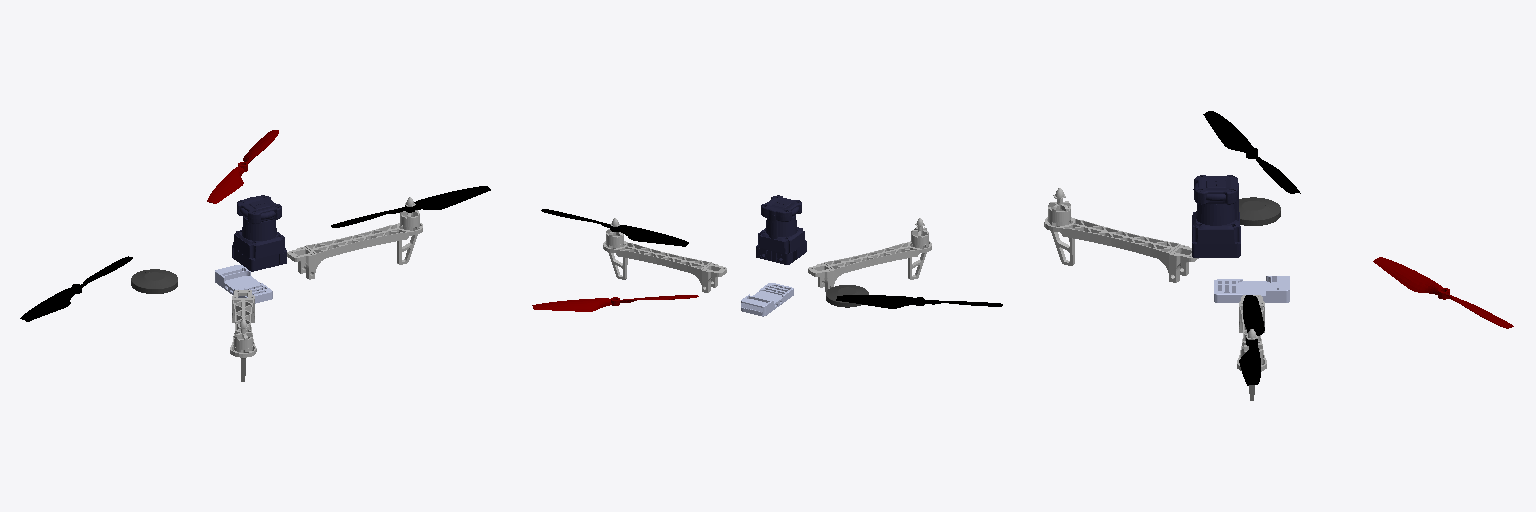
The robot description file, URDF, robot "f550_rd_basic_v1":
<robot
  name="f550_rd_basic_v1">
  <link
    name="base_link">
    <inertial>
      <origin
        xyz="0 0 0"
        rpy="0 0 0" />
      <mass
        value="1" />
      <inertia
        ixx="0.00067479"
        ixy="-6.0421E-07"
        ixz="-7.5099E-07"
        iyy="0.0010896"
        iyz="1.8163E-06"
        izz="0.00064988" />
    </inertial>
    <visual>
      <origin
        xyz="0 0 0"
        rpy="0 0 0" />
      <geometry>
        <mesh
          filename="package://f550_rd_basic_v1/meshes/base_link.STL" />
      </geometry>
      <material
        name="">
        <color
          rgba="0.92941 0.92941 0.92941 1" />
      </material>
    </visual>
    <collision>
      <origin
        xyz="0 0 0"
        rpy="0 0 0" />
      <geometry>
        <mesh
          filename="package://f550_rd_basic_v1/meshes/base_link.STL" />
      </geometry>
    </collision>
  </link>
  <link
    name="wing1">
    <inertial>
      <origin
        xyz="0.12144 -0.11968 0.038426"
        rpy="0 0 0" />
      <mass
        value="0.11819" />
      <inertia
        ixx="0.0003171"
        ixy="-0.00028167"
        ixz="-4.3423E-05"
        iyy="0.00031709"
        iyz="-4.3436E-05"
        izz="0.0005792" />
    </inertial>
    <visual>
      <origin
        xyz="0 0 0"
        rpy="0 0 0" />
      <geometry>
        <mesh
          filename="package://f550_rd_basic_v1/meshes/wing1.STL" />
      </geometry>
      <material
        name="">
        <color
          rgba="0.75294 0.75294 0.75294 1" />
      </material>
    </visual>
    <collision>
      <origin
        xyz="0 0 0"
        rpy="0 0 0" />
      <geometry>
        <mesh
          filename="package://f550_rd_basic_v1/meshes/wing1.STL" />
      </geometry>
    </collision>
  </link>
  <joint
    name="w1"
    type="fixed">
    <origin
      xyz="-0.219500442258882 -0.17050044149774 -0.0402465423967925"
      rpy="4.32963728535971E-17 4.32963728535964E-17 2.35619449019235" />
    <parent
      link="base_link" />
    <child
      link="wing1" />
    <axis
      xyz="0 0 0" />
  </joint>
  <link
    name="prop1">
    <inertial>
      <origin
        xyz="1.6083E-08 6.1968E-09 0.0078525"
        rpy="0 0 0" />
      <mass
        value="0.0091837" />
      <inertia
        ixx="3.009E-07"
        ixy="1.5042E-07"
        ixz="5.8166E-13"
        iyy="3.4024E-05"
        iyz="-7.7721E-14"
        izz="3.4239E-05" />
    </inertial>
    <visual>
      <origin
        xyz="0 0 0"
        rpy="0 0 0" />
      <geometry>
        <mesh
          filename="package://f550_rd_basic_v1/meshes/prop1.STL" />
      </geometry>
      <material
        name="">
        <color
          rgba="0 0 0 1" />
      </material>
    </visual>
    <collision>
      <origin
        xyz="0 0 0"
        rpy="0 0 0" />
      <geometry>
        <mesh
          filename="package://f550_rd_basic_v1/meshes/prop1.STL" />
      </geometry>
    </collision>
  </link>
  <joint
    name="p1"
    type="continuous">
    <origin
      xyz="0.159099025766974 -0.0820250109897306 0.0597327877613558"
      rpy="0 0 -1.92059574803774" />
    <parent
      link="wing1" />
    <child
      link="prop1" />
    <axis
      xyz="0 0 1" />
  </joint>
  <link
    name="wing2">
    <inertial>
      <origin
        xyz="0.12144 0.12144 0.038426"
        rpy="0 0 0" />
      <mass
        value="0.11819" />
      <inertia
        ixx="0.00031708"
        ixy="-0.00028166"
        ixz="-4.3423E-05"
        iyy="0.00031709"
        iyz="-4.3424E-05"
        izz="0.00057917" />
    </inertial>
    <visual>
      <origin
        xyz="0 0 0"
        rpy="0 0 0" />
      <geometry>
        <mesh
          filename="package://f550_rd_basic_v1/meshes/wing2.STL" />
      </geometry>
      <material
        name="">
        <color
          rgba="0.75294 0.75294 0.75294 1" />
      </material>
    </visual>
    <collision>
      <origin
        xyz="0 0 0"
        rpy="0 0 0" />
      <geometry>
        <mesh
          filename="package://f550_rd_basic_v1/meshes/wing2.STL" />
      </geometry>
    </collision>
  </link>
  <joint
    name="w2"
    type="fixed">
    <origin
      xyz="0.0479230484541336 0 -0.0402465423967926"
      rpy="-4.32963728535971E-17 -4.32963728535965E-17 -0.785398163397441" />
    <parent
      link="base_link" />
    <child
      link="wing2" />
    <axis
      xyz="0 0 0" />
  </joint>
  <link
    name="prop2">
    <inertial>
      <origin
        xyz="-6.06903996613894E-07 2.09895339214388E-08 0.00785142091305206"
        rpy="0 0 0" />
      <mass
        value="0.00919102949836486" />
      <inertia
        ixx="3.00756495521516E-07"
        ixy="-1.44553112000028E-07"
        ixz="7.8392478172389E-11"
        iyy="3.41061137513193E-05"
        iyz="-3.56044237665579E-12"
        izz="3.43204927897154E-05" />
    </inertial>
    <visual>
      <origin
        xyz="0 0 0"
        rpy="0 0 0" />
      <geometry>
        <mesh
          filename="package://f550_rd_basic_v1/meshes/prop2.STL" />
      </geometry>
      <material
        name="">
        <color
          rgba="0 0 0 1" />
      </material>
    </visual>
    <collision>
      <origin
        xyz="0 0 0"
        rpy="0 0 0" />
      <geometry>
        <mesh
          filename="package://f550_rd_basic_v1/meshes/prop2.STL" />
      </geometry>
    </collision>
  </link>
  <joint
    name="p2"
    type="continuous">
    <origin
      xyz="0.159099025766667 0.159099025766664 0.0597327877613558"
      rpy="0 0 0.785398163397441" />
    <parent
      link="wing2" />
    <child
      link="prop2" />
    <axis
      xyz="0 0 1" />
  </joint>
  <link
    name="wing3">
    <inertial>
      <origin
        xyz="0.12144 -0.11968 0.038426"
        rpy="0 0 0" />
      <mass
        value="0.11819" />
      <inertia
        ixx="0.0003171"
        ixy="-0.00028167"
        ixz="-4.3423E-05"
        iyy="0.00031709"
        iyz="-4.3436E-05"
        izz="0.0005792" />
    </inertial>
    <visual>
      <origin
        xyz="0 0 0"
        rpy="0 0 0" />
      <geometry>
        <mesh
          filename="package://f550_rd_basic_v1/meshes/wing3.STL" />
      </geometry>
      <material
        name="">
        <color
          rgba="0.75294 0.75294 0.75294 1" />
      </material>
    </visual>
    <collision>
      <origin
        xyz="0 0 0"
        rpy="0 0 0" />
      <geometry>
        <mesh
          filename="package://f550_rd_basic_v1/meshes/wing3.STL" />
      </geometry>
    </collision>
  </link>
  <joint
    name="w3"
    type="fixed">
    <origin
      xyz="0.258425755265039 -0.104255099483012 -0.0402465423967927"
      rpy="-1.37193120842531E-15 -5.91439452097321E-17 -1.83259571459404" />
    <parent
      link="base_link" />
    <child
      link="wing3" />
    <axis
      xyz="0 0 0" />
  </joint>
  <link
    name="prop3">
    <inertial>
      <origin
        xyz="6.73302480991289E-08 3.11284387155553E-10 0.00785252943141168"
        rpy="0 0 0" />
      <mass
        value="0.00918371361845548" />
      <inertia
        ixx="3.00899363978341E-07"
        ixy="1.50416409146065E-07"
        ixz="5.75790647060304E-12"
        iyy="3.40245137086448E-05"
        iyz="3.97946365003819E-13"
        izz="3.42389904138933E-05" />
    </inertial>
    <visual>
      <origin
        xyz="0 0 0"
        rpy="0 0 0" />
      <geometry>
        <mesh
          filename="package://f550_rd_basic_v1/meshes/prop3.STL" />
      </geometry>
      <material
        name="">
        <color
          rgba="0 0 0 1" />
      </material>
    </visual>
    <collision>
      <origin
        xyz="0 0 0"
        rpy="0 0 0" />
      <geometry>
        <mesh
          filename="package://f550_rd_basic_v1/meshes/prop3.STL" />
      </geometry>
    </collision>
  </link>
  <joint
    name="p3"
    type="continuous">
    <origin
      xyz="0.159099025766974 -0.0820250109897308 0.0597327877613557"
      rpy="-1.22388836600251E-17 -1.34049136553275E-15 1.83259571459404" />
    <parent
      link="wing3" />
    <child
      link="prop3" />
    <axis
      xyz="0 0 1" />
  </joint>
  <link
    name="wing4">
    <inertial>
      <origin
        xyz="0.12144 0.12144 0.038426"
        rpy="0 0 0" />
      <mass
        value="0.11819" />
      <inertia
        ixx="0.00031708"
        ixy="-0.00028166"
        ixz="-4.3423E-05"
        iyy="0.00031709"
        iyz="-4.3424E-05"
        izz="0.00057917" />
    </inertial>
    <visual>
      <origin
        xyz="0 0 0"
        rpy="0 0 0" />
      <geometry>
        <mesh
          filename="package://f550_rd_basic_v1/meshes/wing4.STL" />
      </geometry>
      <material
        name="">
        <color
          rgba="0.594 0.411 0.388 1" />
      </material>
    </visual>
    <collision>
      <origin
        xyz="0 0 0"
        rpy="0 0 0" />
      <geometry>
        <mesh
          filename="package://f550_rd_basic_v1/meshes/wing4.STL" />
      </geometry>
    </collision>
  </link>
  <joint
    name="w4"
    type="fixed">
    <origin
      xyz="-0.0229899261393952 0.043307086335355 -0.0402465423967929"
      rpy="-1.58475723561386E-17 5.91439452097364E-17 1.30899693899576" />
    <parent
      link="base_link" />
    <child
      link="wing4" />
    <axis
      xyz="0 0 0" />
  </joint>
  <link
    name="prop4">
    <inertial>
      <origin
        xyz="-6.17499109040187E-07 1.69915435055401E-08 0.00785142024101908"
        rpy="0 0 0" />
      <mass
        value="0.00919100505825974" />
      <inertia
        ixx="3.00756413802507E-07"
        ixy="-1.44552620063001E-07"
        ixz="7.84558787770827E-11"
        iyy="3.41061243643494E-05"
        iyz="-3.57114302807906E-12"
        izz="3.43205032762088E-05" />
    </inertial>
    <visual>
      <origin
        xyz="0 0 0"
        rpy="0 0 0" />
      <geometry>
        <mesh
          filename="package://f550_rd_basic_v1/meshes/prop4.STL" />
      </geometry>
      <material
        name="">
        <color
          rgba="0.752941176470588 0 0 1" />
      </material>
    </visual>
    <collision>
      <origin
        xyz="0 0 0"
        rpy="0 0 0" />
      <geometry>
        <mesh
          filename="package://f550_rd_basic_v1/meshes/prop4.STL" />
      </geometry>
    </collision>
  </link>
  <joint
    name="p4"
    type="continuous">
    <origin
      xyz="0.159099025766974 0.159099025766357 0.0597327877613558"
      rpy="0 0 -1.30899693899576" />
    <parent
      link="wing4" />
    <child
      link="prop4" />
    <axis
      xyz="0 0 1" />
  </joint>
  <link
    name="wing5">
    <inertial>
      <origin
        xyz="0.12144 0.12144 0.038426"
        rpy="0 0 0" />
      <mass
        value="0.11819" />
      <inertia
        ixx="0.00031708"
        ixy="-0.00028166"
        ixz="-4.3423E-05"
        iyy="0.00031709"
        iyz="-4.3424E-05"
        izz="0.00057917" />
    </inertial>
    <visual>
      <origin
        xyz="0 0 0"
        rpy="0 0 0" />
      <geometry>
        <mesh
          filename="package://f550_rd_basic_v1/meshes/wing5.STL" />
      </geometry>
      <material
        name="">
        <color
          rgba="0.75294 0.75294 0.75294 1" />
      </material>
    </visual>
    <collision>
      <origin
        xyz="0 0 0"
        rpy="0 0 0" />
      <geometry>
        <mesh
          filename="package://f550_rd_basic_v1/meshes/wing5.STL" />
      </geometry>
    </collision>
  </link>
  <joint
    name="w5"
    type="fixed">
    <origin
      xyz="-0.0251440484568347 -0.0420634032355138 -0.0402465423967926"
      rpy="5.9143945209736E-17 -7.09736962746862E-16 -2.87979326579064" />
    <parent
      link="base_link" />
    <child
      link="wing5" />
    <axis
      xyz="0 0 0" />
  </joint>
  <link
    name="prop5">
    <inertial>
      <origin
        xyz="-6.95645356985075E-07 1.7149377112835E-08 0.00785143154723994"
        rpy="0 0 0" />
      <mass
        value="0.00919099480486216" />
      <inertia
        ixx="3.00752111229346E-07"
        ixy="-1.44552434580939E-07"
        ixz="7.07667846431983E-11"
        iyy="3.41060666318963E-05"
        iyz="-3.03783252474656E-12"
        izz="3.43204418856938E-05" />
    </inertial>
    <visual>
      <origin
        xyz="0 0 0"
        rpy="0 0 0" />
      <geometry>
        <mesh
          filename="package://f550_rd_basic_v1/meshes/prop5.STL" />
      </geometry>
      <material
        name="">
        <color
          rgba="0 0 0 1" />
      </material>
    </visual>
    <collision>
      <origin
        xyz="0 0 0"
        rpy="0 0 0" />
      <geometry>
        <mesh
          filename="package://f550_rd_basic_v1/meshes/prop5.STL" />
      </geometry>
    </collision>
  </link>
  <joint
    name="p5"
    type="continuous">
    <origin
      xyz="0.159099025766974 0.159099025766357 0.0597327877613557"
      rpy="-9.91037528426906E-17 -6.86775751078402E-16 -2.99827901567927" />
    <parent
      link="wing5" />
    <child
      link="prop5" />
    <axis
      xyz="0 0 1" />
  </joint>
  <link
    name="wing6">
    <inertial>
      <origin
        xyz="0.12144 -0.11968 0.038426"
        rpy="0 0 0" />
      <mass
        value="0.11819" />
      <inertia
        ixx="0.0003171"
        ixy="-0.00028167"
        ixz="-4.3423E-05"
        iyy="0.00031709"
        iyz="-4.3436E-05"
        izz="0.0005792" />
    </inertial>
    <visual>
      <origin
        xyz="0 0 0"
        rpy="0 0 0" />
      <geometry>
        <mesh
          filename="package://f550_rd_basic_v1/meshes/wing6.STL" />
      </geometry>
      <material
        name="">
        <color
          rgba="0.594 0.411 0.388 1" />
      </material>
    </visual>
    <collision>
      <origin
        xyz="0 0 0"
        rpy="0 0 0" />
      <geometry>
        <mesh
          filename="package://f550_rd_basic_v1/meshes/wing6.STL" />
      </geometry>
    </collision>
  </link>
  <joint
    name="w6"
    type="fixed">
    <origin
      xyz="-0.0391362391482408 0.2748090405283 -0.0402465423967925"
      rpy="-5.9143945209736E-17 1.58475723561399E-17 0.261799387799158" />
    <parent
      link="base_link" />
    <child
      link="wing6" />
    <axis
      xyz="0 0 0" />
  </joint>
  <link
    name="prop6">
    <inertial>
      <origin
        xyz="1.4102E-06 -7.3846E-08 0.0078525"
        rpy="0 0 0" />
      <mass
        value="0.0091836" />
      <inertia
        ixx="3.0089E-07"
        ixy="1.5035E-07"
        ixz="6.9021E-12"
        iyy="3.4023E-05"
        iyz="-3.445E-13"
        izz="3.4238E-05" />
    </inertial>
    <visual>
      <origin
        xyz="0 0 0"
        rpy="0 0 0" />
      <geometry>
        <mesh
          filename="package://f550_rd_basic_v1/meshes/prop6.STL" />
      </geometry>
      <material
        name="">
        <color
          rgba="0.50196 0 0 1" />
      </material>
    </visual>
    <collision>
      <origin
        xyz="0 0 0"
        rpy="0 0 0" />
      <geometry>
        <mesh
          filename="package://f550_rd_basic_v1/meshes/prop6.STL" />
      </geometry>
    </collision>
  </link>
  <joint
    name="p6"
    type="continuous">
    <origin
      xyz="0.159099025766974 -0.0820250109897306 0.0597327877613558"
      rpy="0 0 -2.70619330605538" />
    <parent
      link="wing6" />
    <child
      link="prop6" />
    <axis
      xyz="0 0 1" />
  </joint>
  <link
    name="fcu_px2">
    <inertial>
      <origin
        xyz="0.002093 0.00024832 -0.0059171"
        rpy="0 0 0" />
      <mass
        value="0.25" />
      <inertia
        ixx="7.9881E-06"
        ixy="1.4254E-07"
        ixz="9.5267E-07"
        iyy="3.4253E-05"
        iyz="-1.0276E-08"
        izz="4.0844E-05" />
    </inertial>
    <visual>
      <origin
        xyz="0 0 0"
        rpy="0 0 0" />
      <geometry>
        <mesh
          filename="package://f550_rd_basic_v1/meshes/fcu_px2.STL" />
      </geometry>
      <material
        name="">
        <color
          rgba="0.79216 0.81961 0.93333 1" />
      </material>
    </visual>
    <collision>
      <origin
        xyz="0 0 0"
        rpy="0 0 0" />
      <geometry>
        <mesh
          filename="package://f550_rd_basic_v1/meshes/fcu_px2.STL" />
      </geometry>
    </collision>
  </link>
  <joint
    name="fcu_fix"
    type="fixed">
    <origin
      xyz="0 0 -0.0394965423967926"
      rpy="3.14159265358979 6.12303176911189E-17 1.5707963267949" />
    <parent
      link="base_link" />
    <child
      link="fcu_px2" />
    <axis
      xyz="0 0 0" />
  </joint>
  <link
    name="gps_here">
    <inertial>
      <origin
        xyz="-1.3121E-06 -6.68E-05 0.0084082"
        rpy="0 0 0" />
      <mass
        value="0.0" />
      <inertia
        ixx="2.9868E-05"
        ixy="-1.0411E-10"
        ixz="5.0539E-11"
        iyy="2.9724E-05"
        iyz="4.7726E-08"
        izz="5.5952E-05" />
    </inertial>
    <visual>
      <origin
        xyz="0 0 0"
        rpy="0 0 0" />
      <geometry>
        <mesh
          filename="package://f550_rd_basic_v1/meshes/gps_here.STL" />
      </geometry>
      <material
        name="">
        <color
          rgba="0.3 0.3 0.3 1" />
      </material>
    </visual>
    <collision>
      <origin
        xyz="0 0 0"
        rpy="0 0 0" />
      <geometry>
        <mesh
          filename="package://f550_rd_basic_v1/meshes/gps_here.STL" />
      </geometry>
    </collision>
  </link>
  <joint
    name="fcu2gps_fix"
    type="fixed">
    <origin
      xyz="0.00198507835763108 -0.145 -0.0379965423967927"
      rpy="3.14159265358979 -1.3010426069826E-16 -1.5707963267949" />
    <parent
      link="fcu_px2" />
    <child
      link="gps_here" />
    <axis
      xyz="0 0 0" />
  </joint>
  <link
    name="lrf_horizontal">
    <inertial>
      <origin
        xyz="2.3187E-06 -0.029952 0.0217"
        rpy="0 0 0" />
      <mass
        value="0.1926" />
      <inertia
        ixx="0.00023701"
        ixy="-5.7242E-08"
        ixz="6.8532E-09"
        iyy="0.00023618"
        iyz="-2.9987E-06"
        izz="0.00014751" />
    </inertial>
    <visual>
      <origin
        xyz="0 0 0"
        rpy="0 0 0" />
      <geometry>
        <mesh
          filename="package://f550_rd_basic_v1/meshes/lrf_horizontal.STL" />
      </geometry>
      <material
        name="">
        <color
          rgba="0.176 0.176 0.275 1" />
      </material>
    </visual>
    <collision>
      <origin
        xyz="0 0 0"
        rpy="0 0 0" />
      <geometry>
        <mesh
          filename="package://f550_rd_basic_v1/meshes/lrf_horizontal.STL" />
      </geometry>
    </collision>
  </link>
  <joint
    name="lrf_fix"
    type="fixed">
    <origin
      xyz="0 -0.014180598689214 0.026"
      rpy="-6.12303176911189E-17 0 0" />
    <parent
      link="base_link" />
    <child
      link="lrf_horizontal" />
    <axis
      xyz="0 -1 0" />
  </joint>
  <link
    name="odroid_xu4">
    <inertial>
      <origin
        xyz="0.0057413 0.00030748 -0.0052843"
        rpy="0 0 0" />
      <mass
        value="0.08" />
      <inertia
        ixx="4.4834E-06"
        ixy="3.2726E-07"
        ixz="1.7419E-07"
        iyy="6.5755E-06"
        iyz="1.4639E-08"
        izz="1.0308E-05" />
    </inertial>
    <visual>
      <origin
        xyz="0 0 0"
        rpy="0 0 0" />
      <geometry>
        <mesh
          filename="package://f550_rd_basic_v1/meshes/odroid_xu4.STL" />
      </geometry>
      <material
        name="">
        <color
          rgba="0 0.1 0.45 1" />
      </material>
    </visual>
    <collision>
      <origin
        xyz="0 0 0"
        rpy="0 0 0" />
      <geometry>
        <mesh
          filename="package://f550_rd_basic_v1/meshes/odroid_xu4.STL" />
      </geometry>
    </collision>
  </link>
  <joint
    name="base2odroid_fix"
    type="fixed">
    <origin
      xyz="0 0.0265 0.038"
      rpy="3.14159265358979 -6.12303176911189E-17 -1.5707963267949" />
    <parent
      link="base_link" />
    <child
      link="odroid_xu4" />
    <axis
      xyz="0 0 0" />
  </joint>
</robot>

--- What the picture shows (computed from the rendered views, not written in the file) ---
The picture shows the robot from 3 angles, left to right: view 1: azimuth 30°, elevation 25°; view 2: azimuth 150°, elevation 25°; view 3: azimuth 270°, elevation 25°; orthographic projection.
Model f550_rd_basic_v1 with 17 links and 16 joints (6 continuous, 10 fixed), rooted at base_link, posed every joint at zero.
Visible links, largest first — view 1: lrf_horizontal, wing2, wing5, prop2, fcu_px2, prop1, prop6, gps_here; view 2: lrf_horizontal, wing5, wing2, prop1, prop6, fcu_px2, prop2, gps_here; view 3: wing5, lrf_horizontal, fcu_px2, prop6, prop1, prop2, gps_here, wing2.
Link boxes in pixels (x1,y1,x2,y2): lrf_horizontal: [232, 195, 286, 271]; wing2: [287, 197, 422, 279]; wing5: [230, 290, 256, 381]; prop2: [331, 186, 490, 227]; fcu_px2: [215, 265, 272, 303]; prop1: [20, 256, 132, 321]; prop6: [207, 130, 278, 203]; gps_here: [131, 269, 177, 293]; lrf_horizontal: [756, 195, 806, 264]; wing5: [808, 218, 931, 291]; wing2: [603, 218, 726, 292]; prop1: [836, 295, 1002, 308]; prop6: [532, 295, 698, 311]; fcu_px2: [741, 283, 793, 316]; prop2: [541, 209, 688, 246]; gps_here: [826, 285, 868, 307]; wing5: [1044, 188, 1198, 282]; lrf_horizontal: [1192, 175, 1240, 257]; fcu_px2: [1214, 276, 1289, 302]; prop6: [1373, 257, 1513, 328]; prop1: [1203, 111, 1300, 193]; prop2: [1239, 295, 1264, 385]; gps_here: [1239, 197, 1280, 225]; wing2: [1237, 295, 1266, 400].
Size in the robot's own frame: 0.7975 by 0.5805 by 0.1715 metres.
Meshes: 17 distinct files referenced, 8 mesh visuals loaded (8 binary STL); not drawn: 9 (reference not matched to a file when rendering).